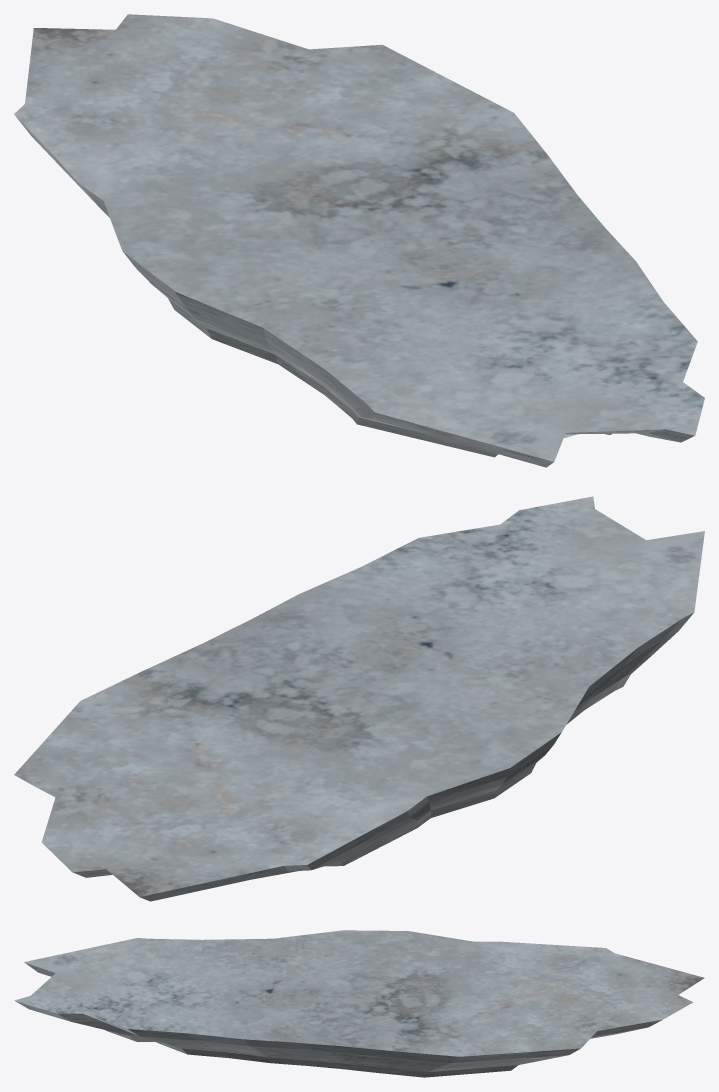
The model's file is PlataformaOscilante1.fbx.
3 views of the same model, one above another, from view 1: azimuth 30°, elevation 25°; view 2: azimuth 150°, elevation 25°; view 3: azimuth 270°, elevation 25° (orthographic). The views are drawn at different scales.
Parts seen in each view (by area): view 1: 2_PlataformaNormalOscilanteLarga; view 2: 2_PlataformaNormalOscilanteLarga; view 3: 2_PlataformaNormalOscilanteLarga.
Boxes of the visible parts, x1,y1,x2,y2 form: 2_PlataformaNormalOscilanteLarga: (14, 14, 704, 467); 2_PlataformaNormalOscilanteLarga: (14, 496, 704, 901); 2_PlataformaNormalOscilanteLarga: (14, 930, 704, 1077).
Bounding box in the file's own units: 4.25 × 0.5175 × 9.81.
Materials: 1 (1 with a texture image).
